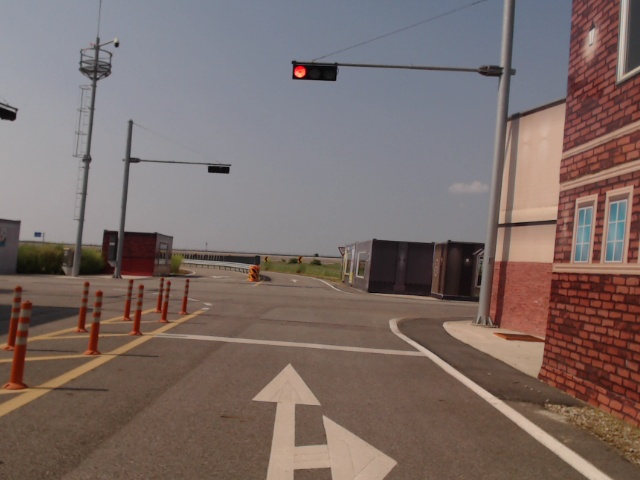red_3: (293, 63, 337, 82)
